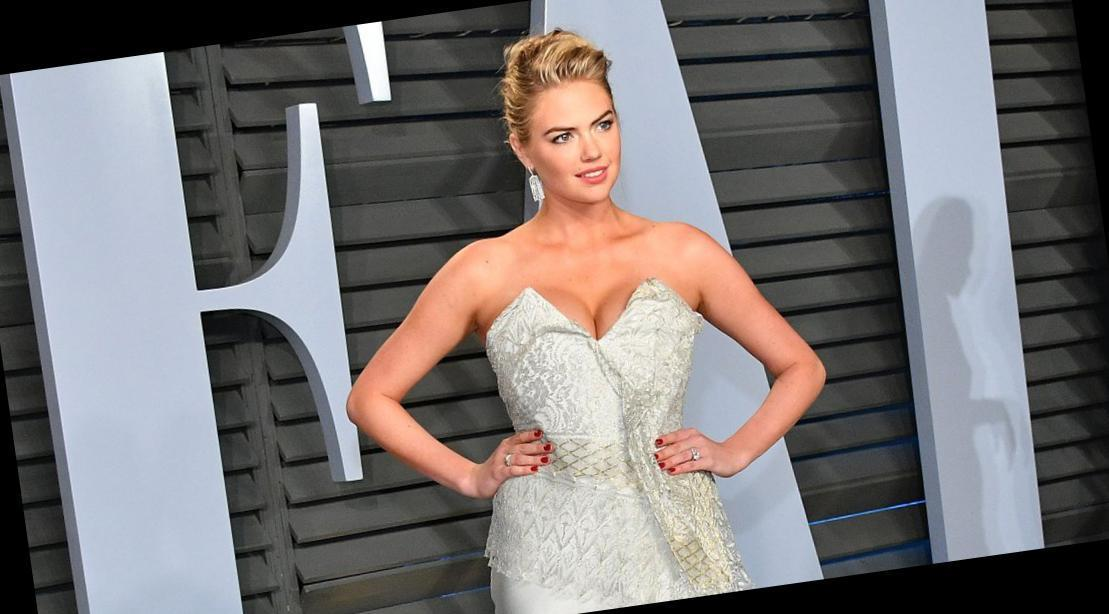Sober: (535, 93, 625, 206)
